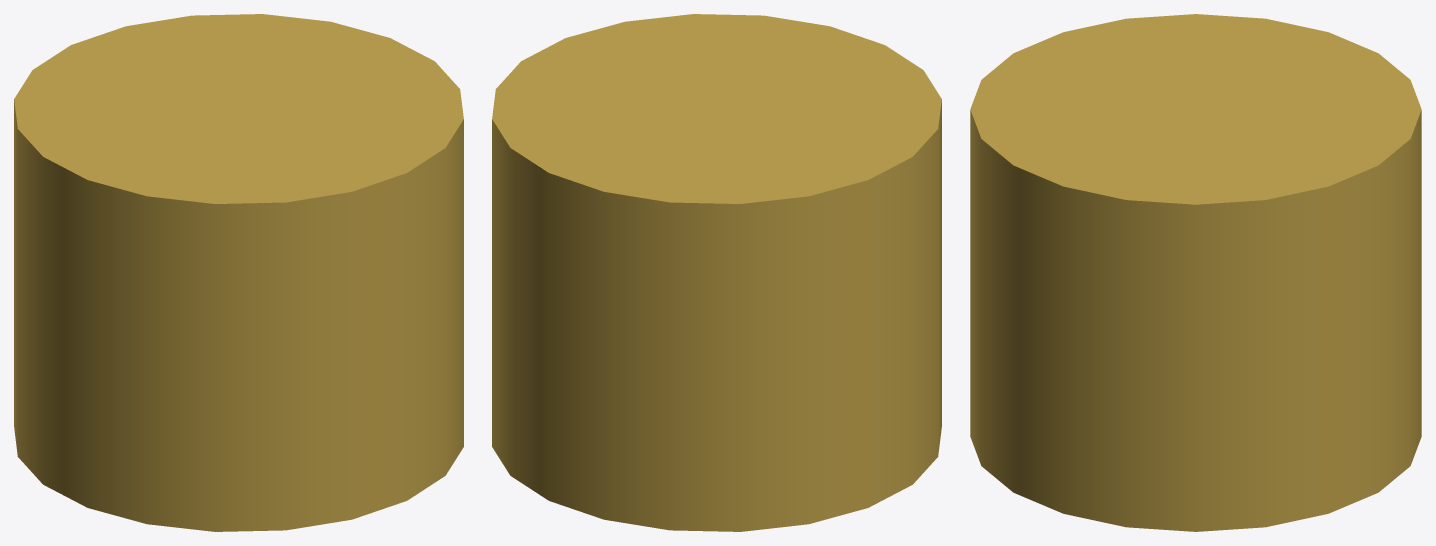
The model's file is bale.glb.
The picture shows the model from 3 angles, left to right: view 1: azimuth 30°, elevation 25°; view 2: azimuth 150°, elevation 25°; view 3: azimuth 270°, elevation 25°; orthographic projection.
Visible parts, largest first — view 1: bale-2; view 2: bale-2; view 3: bale-2.
Boxes of the visible parts, box(x1,y1,x2,y2) form: bale-2: box(14, 14, 463, 531); bale-2: box(492, 14, 941, 531); bale-2: box(970, 14, 1421, 531).
Bounding box in the file's own units: 1.5 × 1.2 × 1.5.
